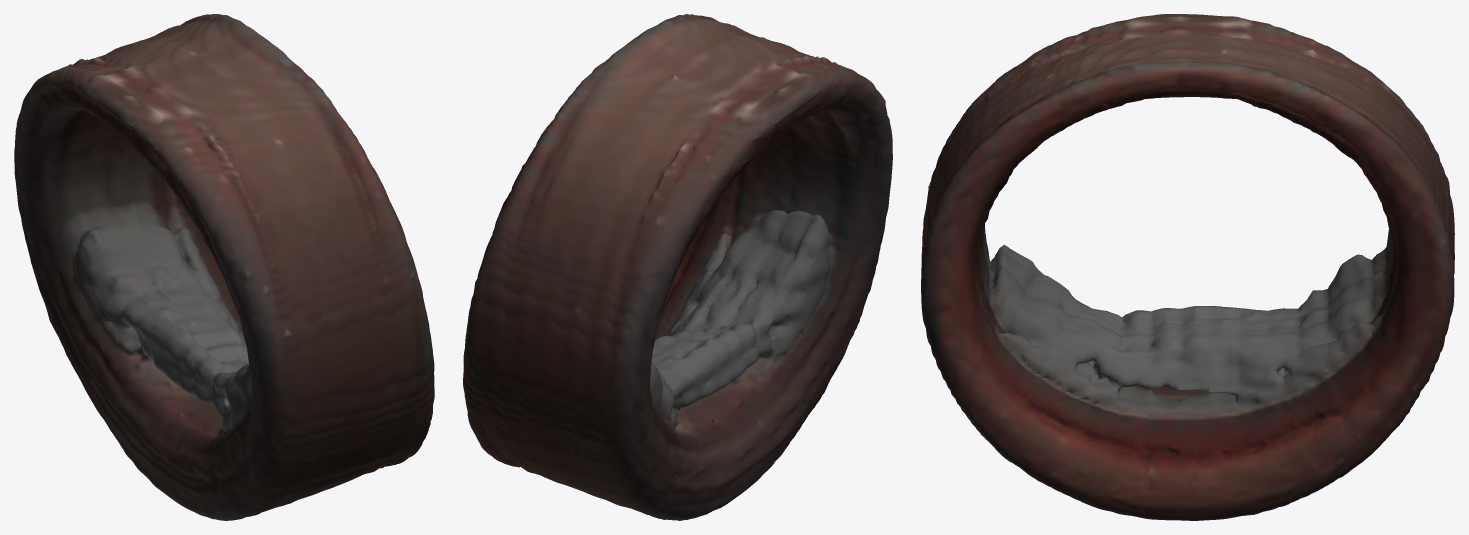
The model's file is seal.glb.
3 renders of one model, left to right at view 1: azimuth 30°, elevation 25°; view 2: azimuth 150°, elevation 25°; view 3: azimuth 270°, elevation 25°, orthographic.
Visible parts, largest first — view 1: geometry_0; view 2: geometry_0; view 3: geometry_0.
Boxes of the visible parts, <box> form: geometry_0: <box>14,14,434,520</box>; geometry_0: <box>463,14,892,520</box>; geometry_0: <box>921,14,1454,520</box>.
Bounding box in the file's own units: 0.5129 × 0.9086 × 0.9924.
